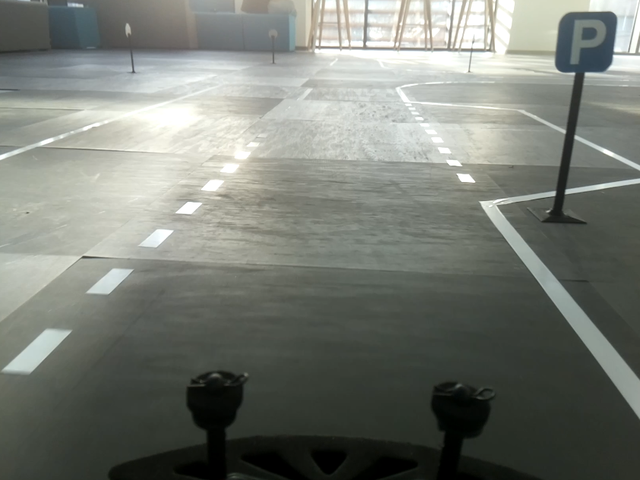parking: (554, 11, 616, 71)
